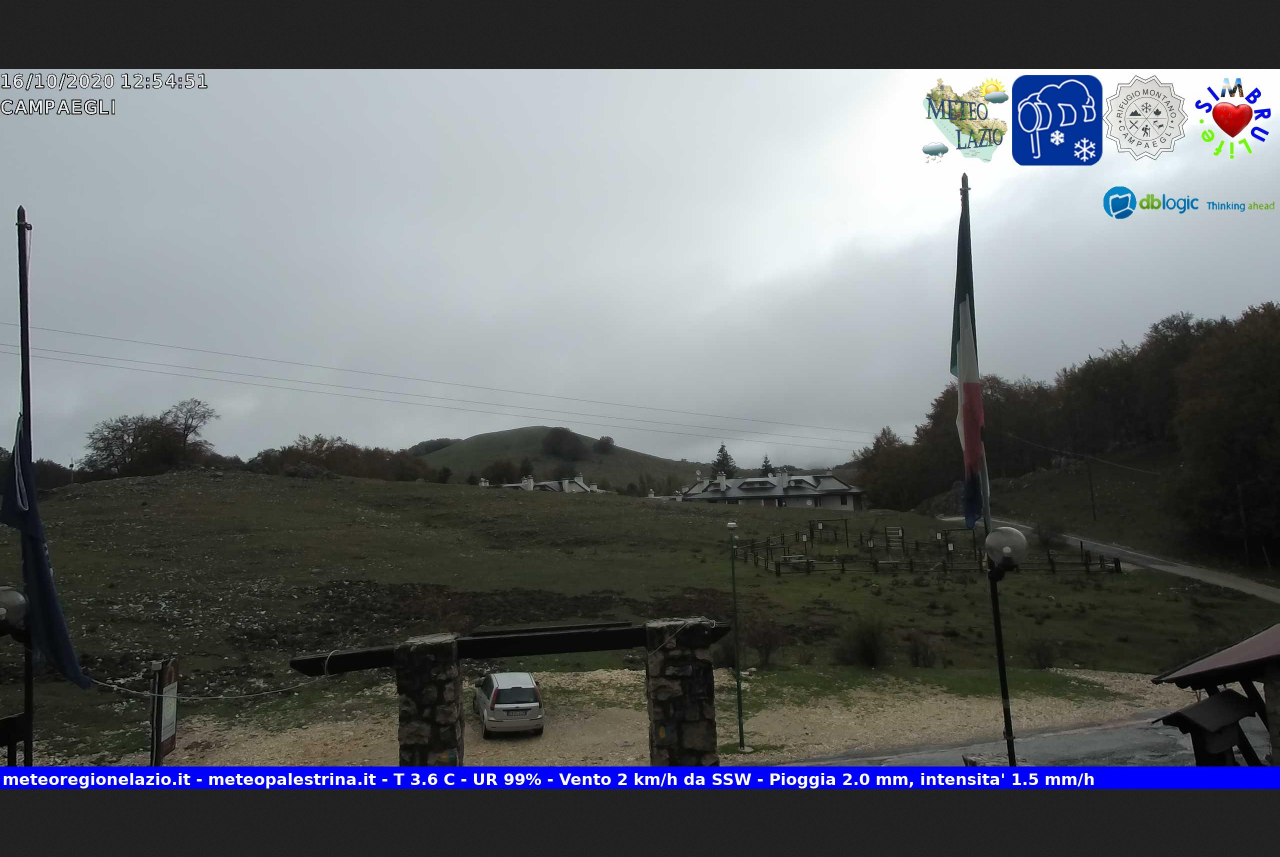no: (9, 412, 75, 688), (946, 200, 986, 484)
